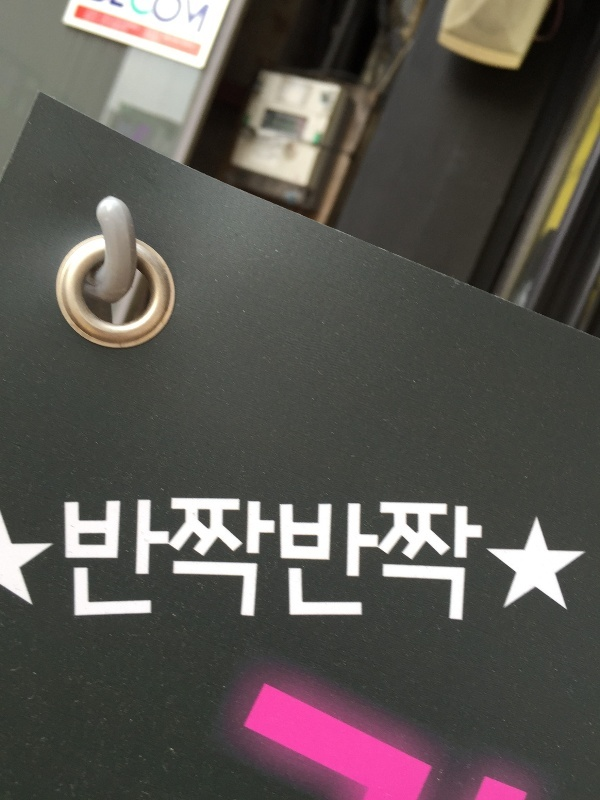text: (65, 492, 80, 637), (81, 492, 96, 637), (97, 492, 112, 637), (113, 492, 128, 637), (129, 492, 144, 637), (145, 492, 160, 637), (161, 492, 176, 637), (177, 492, 192, 637), (193, 492, 208, 637), (209, 492, 224, 637), (225, 492, 240, 637), (241, 492, 256, 637), (257, 492, 272, 637), (273, 492, 288, 637), (289, 492, 304, 637), (305, 492, 320, 637), (321, 492, 336, 637), (337, 492, 352, 637), (353, 492, 368, 637), (369, 492, 384, 637), (385, 492, 400, 637), (401, 492, 416, 637), (417, 492, 432, 637), (433, 492, 448, 637), (449, 492, 464, 637), (465, 492, 480, 637), (257, 666, 272, 797), (273, 666, 288, 797), (289, 666, 304, 797), (305, 666, 320, 797), (321, 666, 336, 797), (337, 666, 352, 797), (353, 666, 368, 797), (369, 666, 384, 797), (385, 666, 400, 797), (401, 666, 416, 797), (417, 666, 432, 797), (433, 666, 448, 797), (449, 666, 464, 797), (465, 666, 480, 797), (481, 666, 496, 797), (497, 666, 512, 797), (513, 666, 528, 797), (60, 492, 64, 637), (481, 492, 485, 637), (97, 1, 112, 35), (113, 1, 128, 35), (129, 1, 144, 35), (145, 1, 160, 35), (161, 1, 176, 35), (177, 1, 192, 35), (193, 1, 208, 35), (529, 666, 531, 797), (209, 1, 213, 35)
